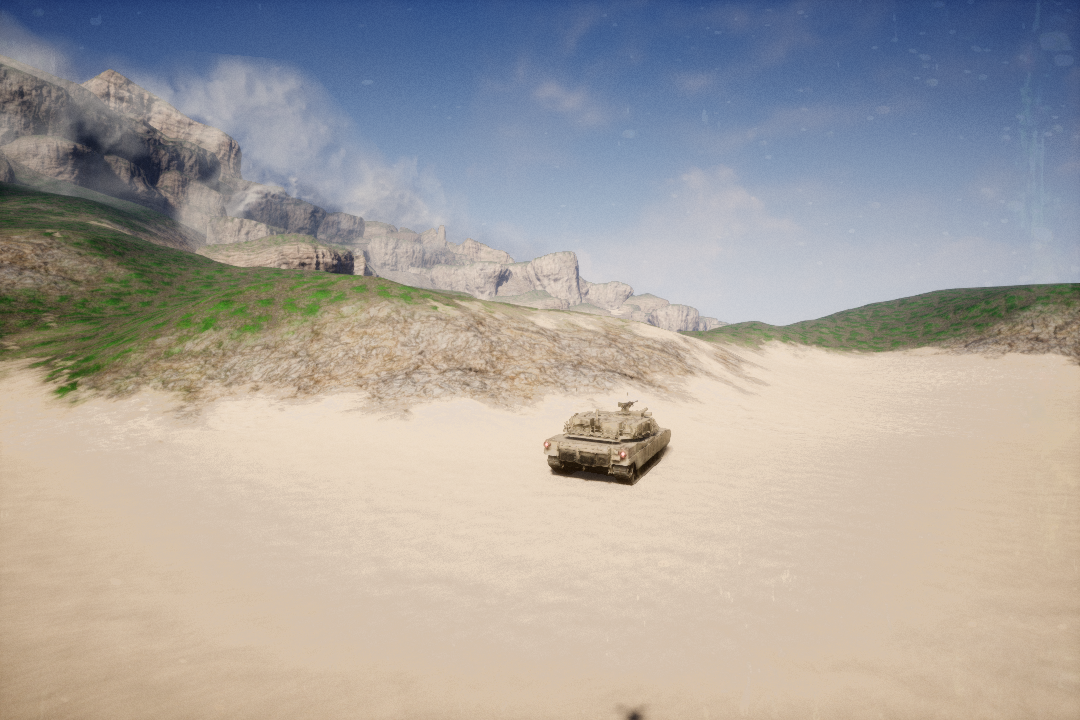tank: (545, 393, 674, 489)
